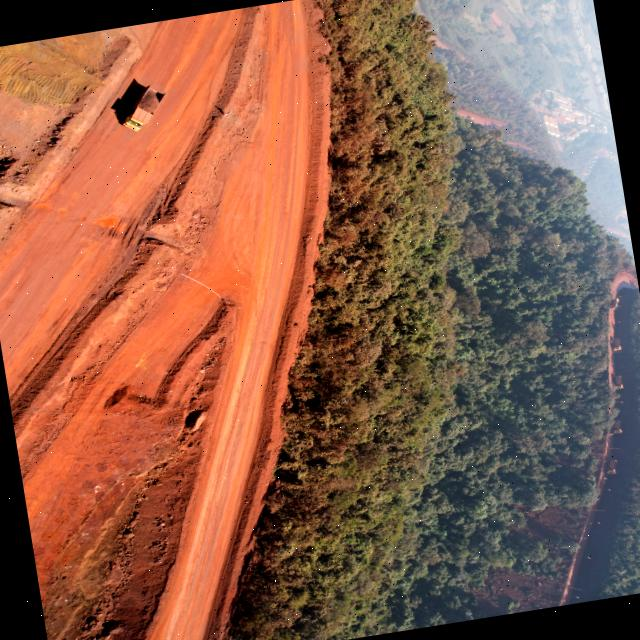Dumper truck: (118, 86, 162, 132)
